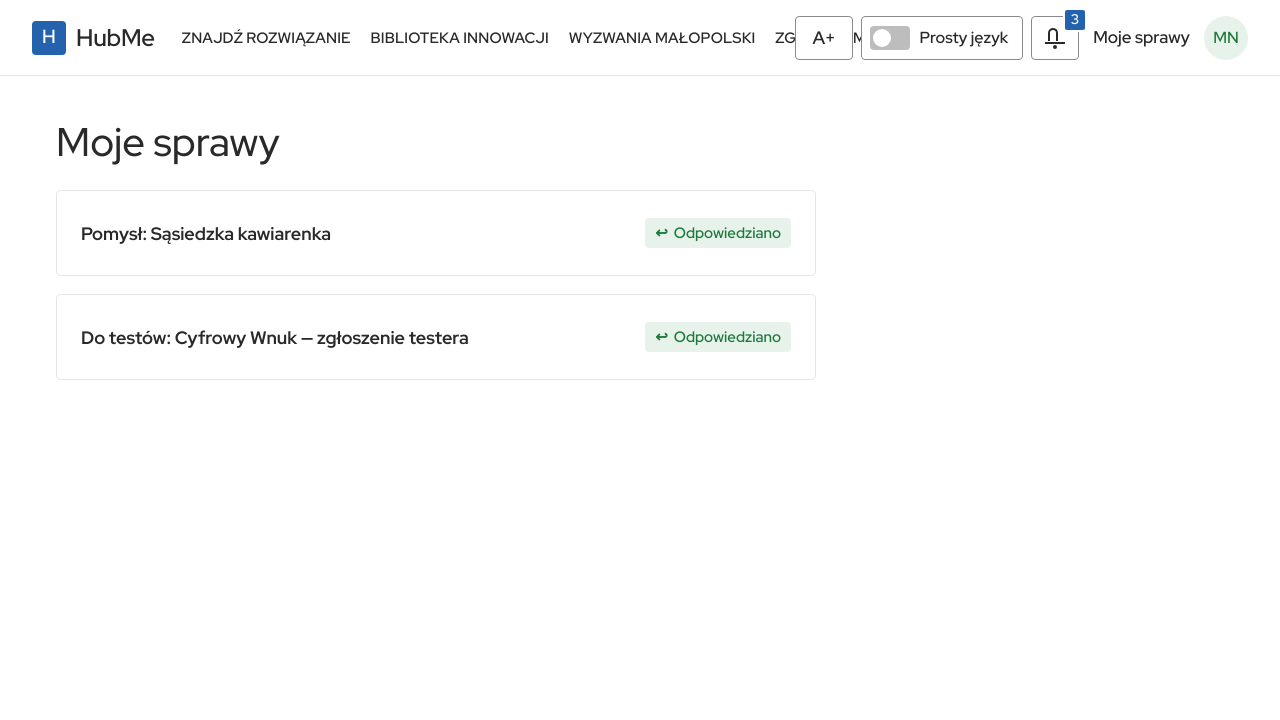
Test case: shell › returns to the start page when signing out of a guarded page
This screenshot has width=1280, height=720.
Click the button with aria-label "Konto: Maria N." at [1226, 38], box [1204,16,1248,60]
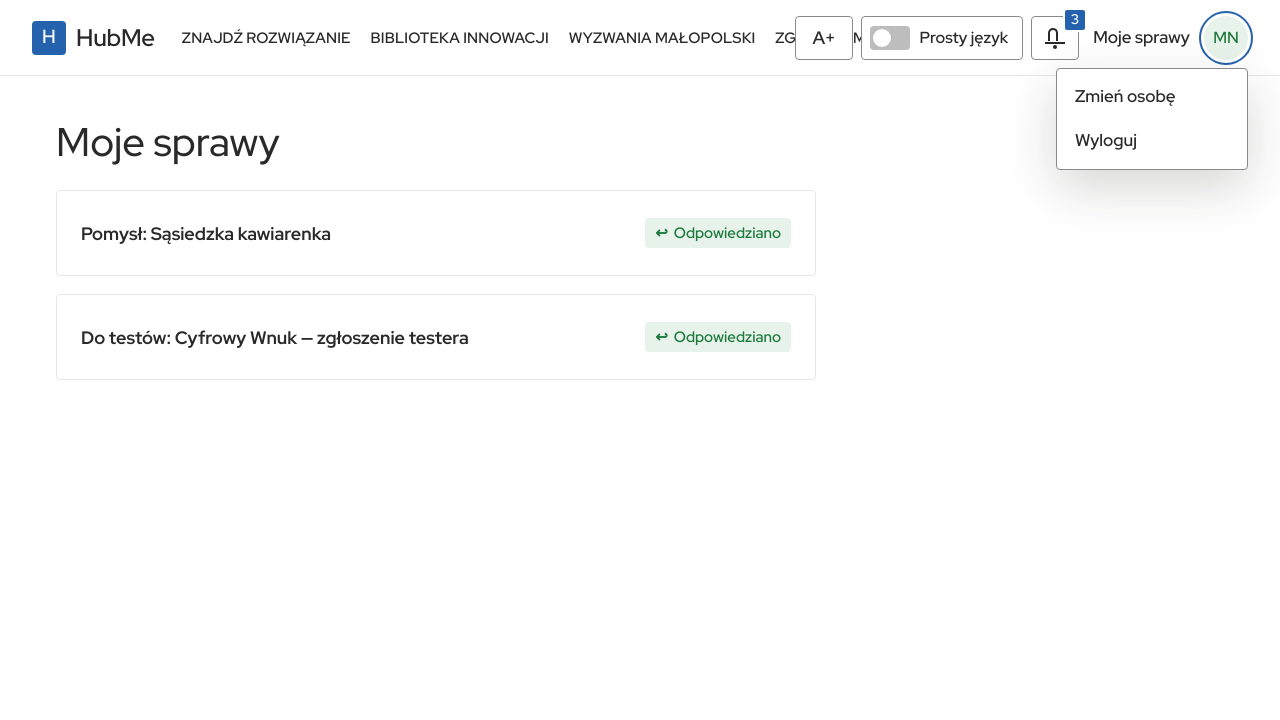
Click the menu item "Wyloguj" at [1152, 140], box [1063,118,1241,162]
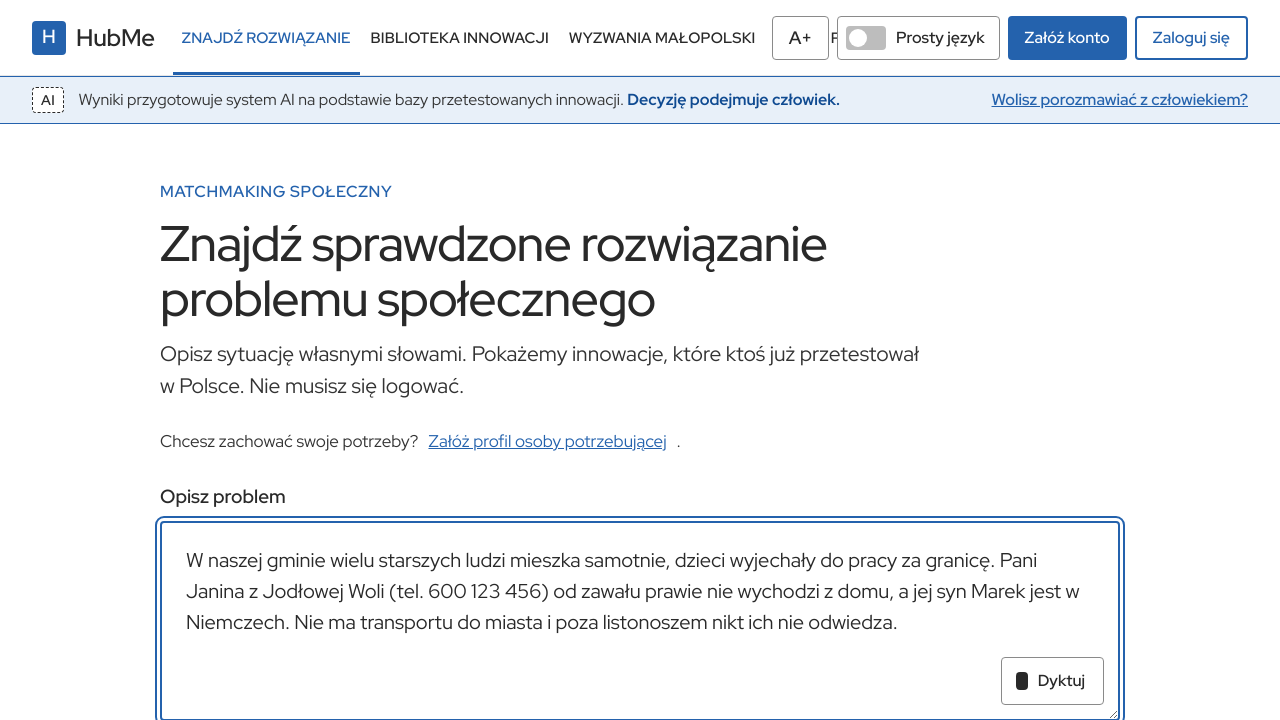
expect the button "Zaloguj się" is shown: met, box [1135,16,1248,60]
